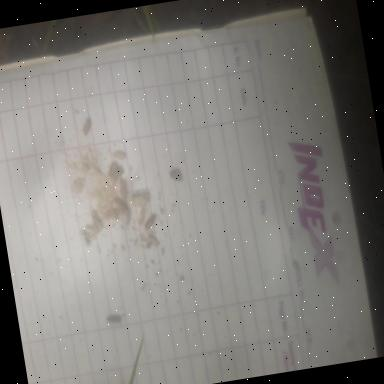pbw: (140, 212, 160, 231), (77, 115, 93, 136), (90, 207, 103, 230), (117, 177, 128, 202), (122, 206, 134, 228), (146, 231, 160, 248), (136, 206, 147, 226), (106, 160, 119, 176), (111, 164, 124, 180), (105, 312, 122, 324), (86, 228, 101, 241), (115, 196, 128, 210), (111, 149, 126, 160), (84, 221, 98, 232)
